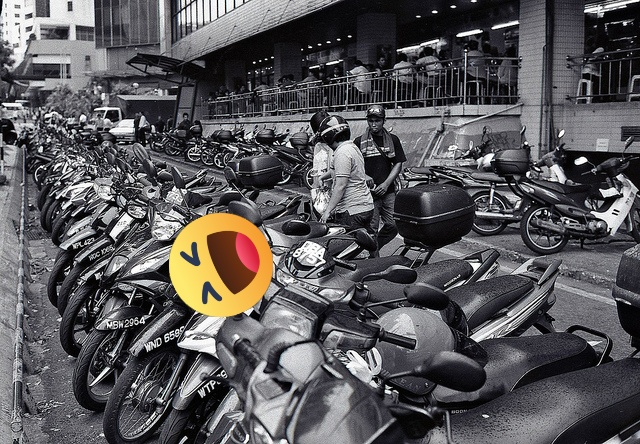haha: (169, 213, 273, 317)
